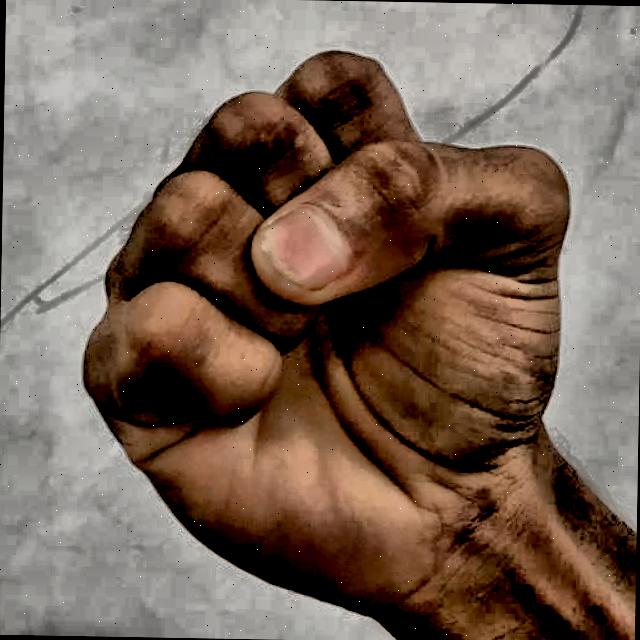Sha: (38, 19, 588, 640)
